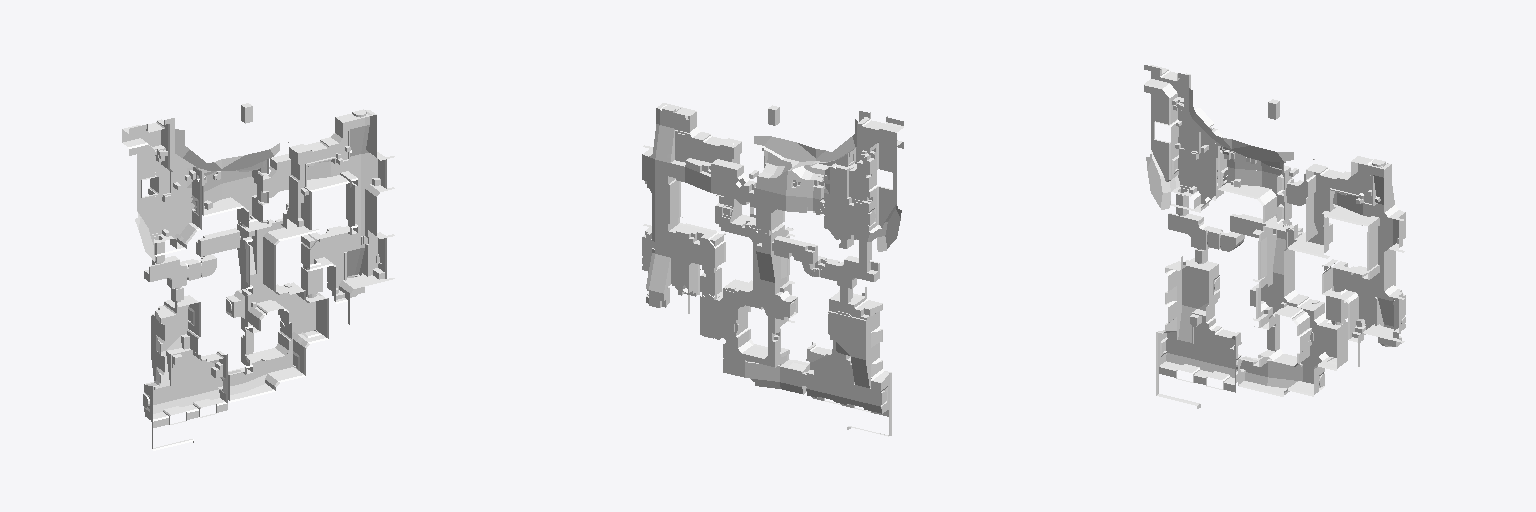
The model's file is dust2.obj.
The picture shows the model from 3 angles: view 1: azimuth 30°, elevation 25°; view 2: azimuth 150°, elevation 25°; view 3: azimuth 330°, elevation 25°; orthographic projection.
Visible parts, largest first — view 1: de_dust2; view 2: de_dust2; view 3: de_dust2.
Part boxes in pixels (x1,y1,x2,y2): de_dust2: (122, 103, 394, 450); de_dust2: (642, 103, 903, 436); de_dust2: (1144, 65, 1405, 408).
Bounding box in the file's own units: 4480 × 5312 × 608.